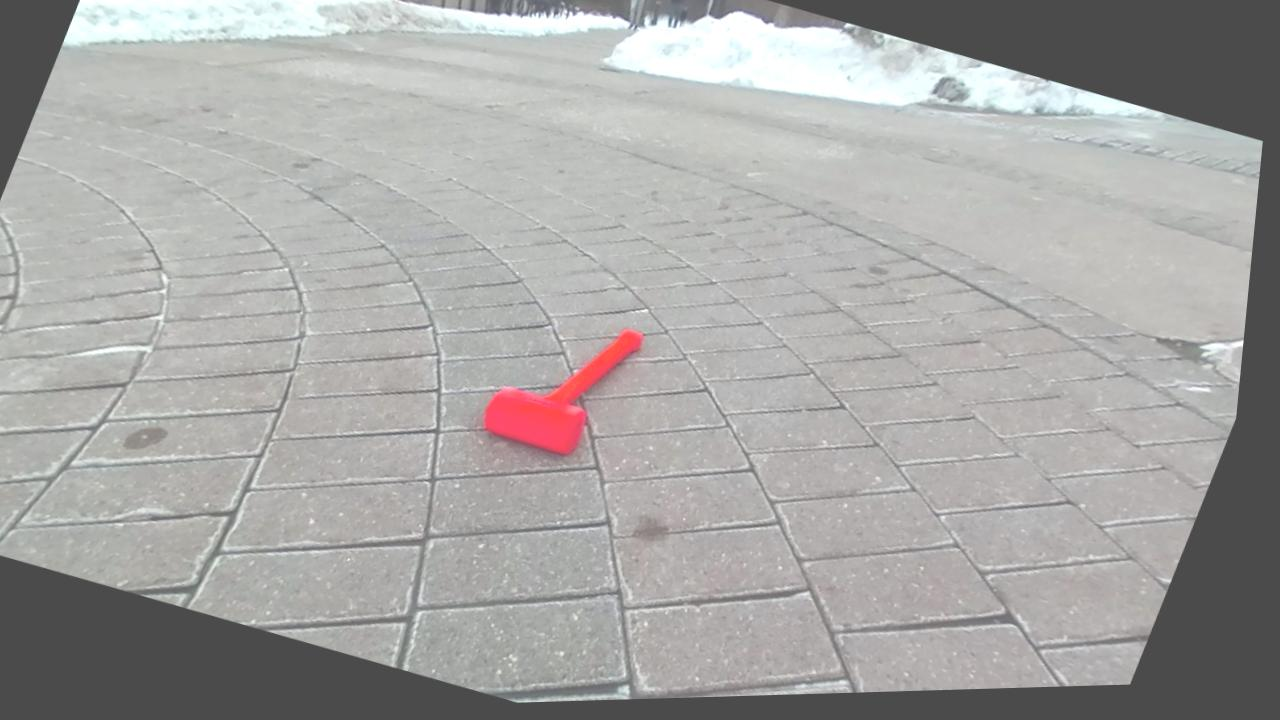mallet: (484, 329, 643, 454)
